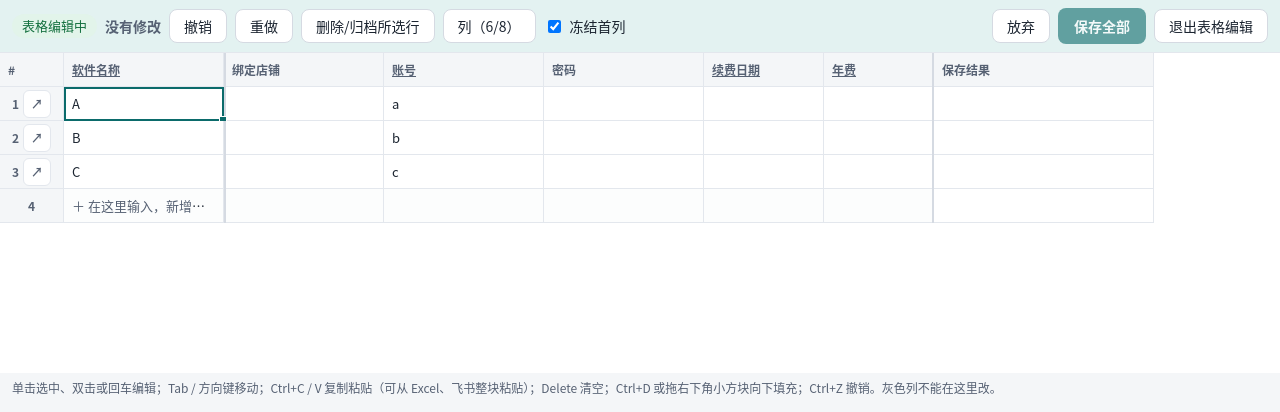
Test: 资料表格编辑网格 › 直接键入字符替换内容；Esc 取消不留改动
Press the mouse on the cell "A" at (144, 104), box [64, 87, 224, 121]
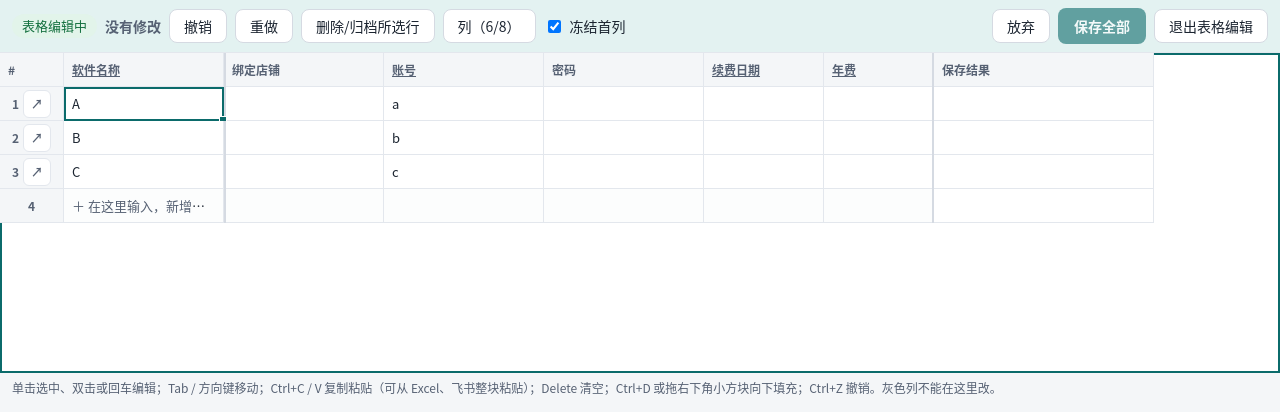
Press q in the element that starts with "软件名称"
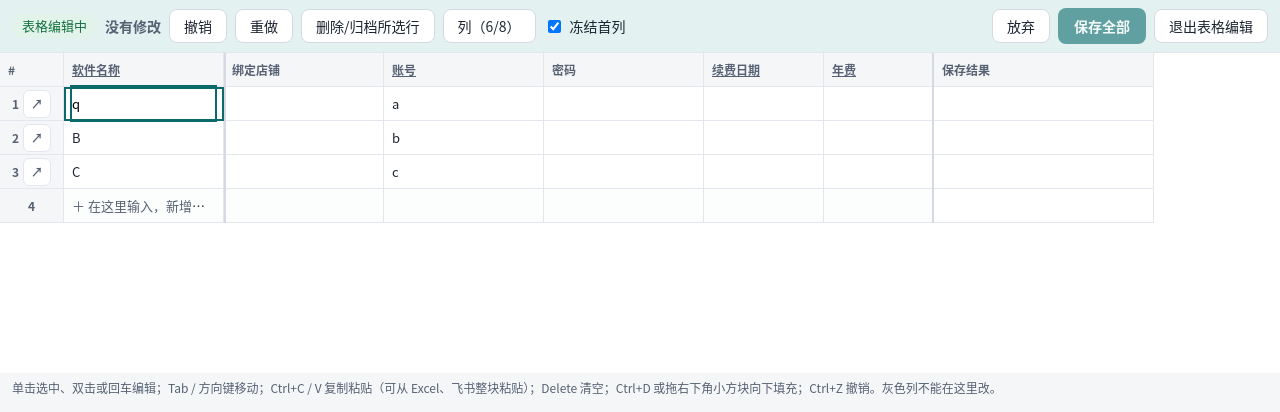
Expected: the field named "编辑软件名称" holds "q"
Press Escape in the field named "编辑软件名称", box [72, 87, 215, 120]
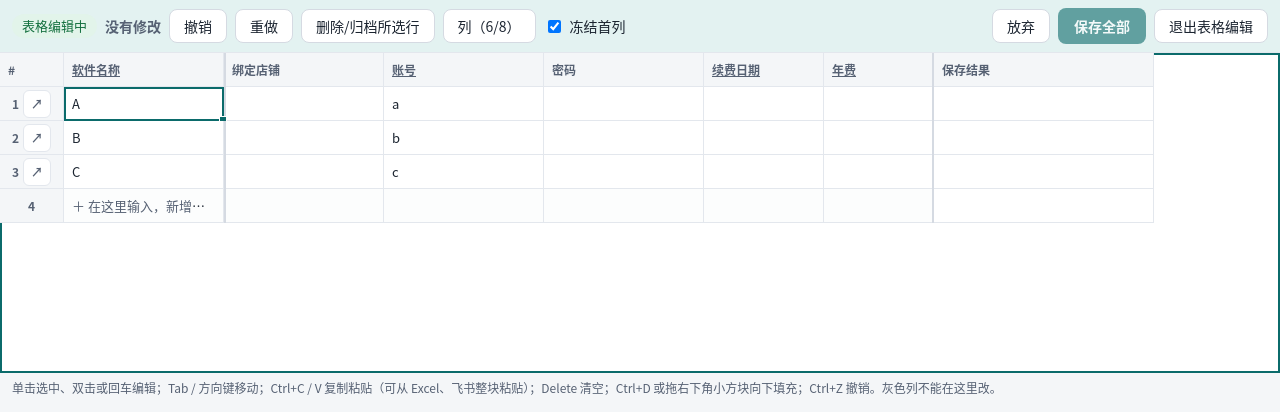
Expected: the text "没有修改" is shown, [105, 16, 161, 36]
Expected: the field labelled "编辑软件名称" is gone
